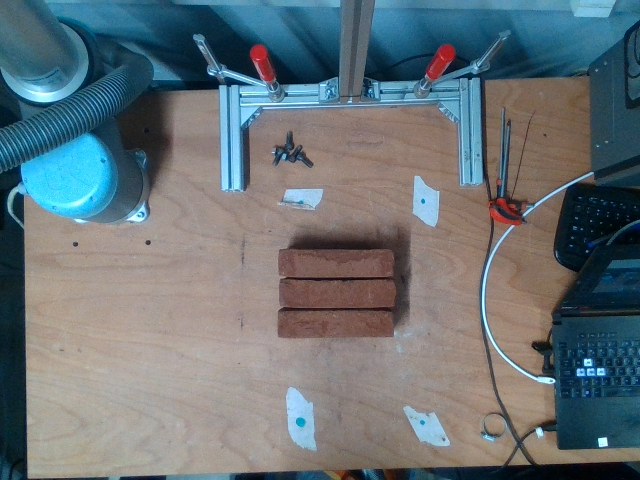brick-side: (280, 277, 398, 306), (279, 309, 397, 338), (278, 250, 396, 279)
